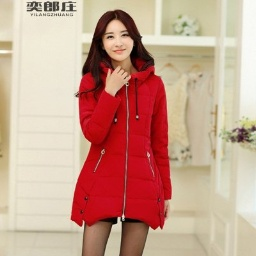face: (86, 9, 155, 68)
